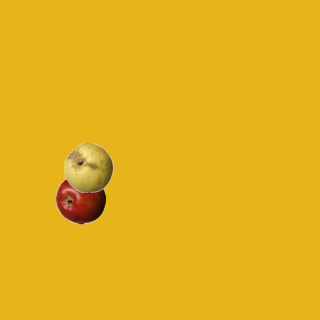Apple Braeburn: (55, 174, 105, 224)
Apple Golden 1: (63, 142, 113, 192)
